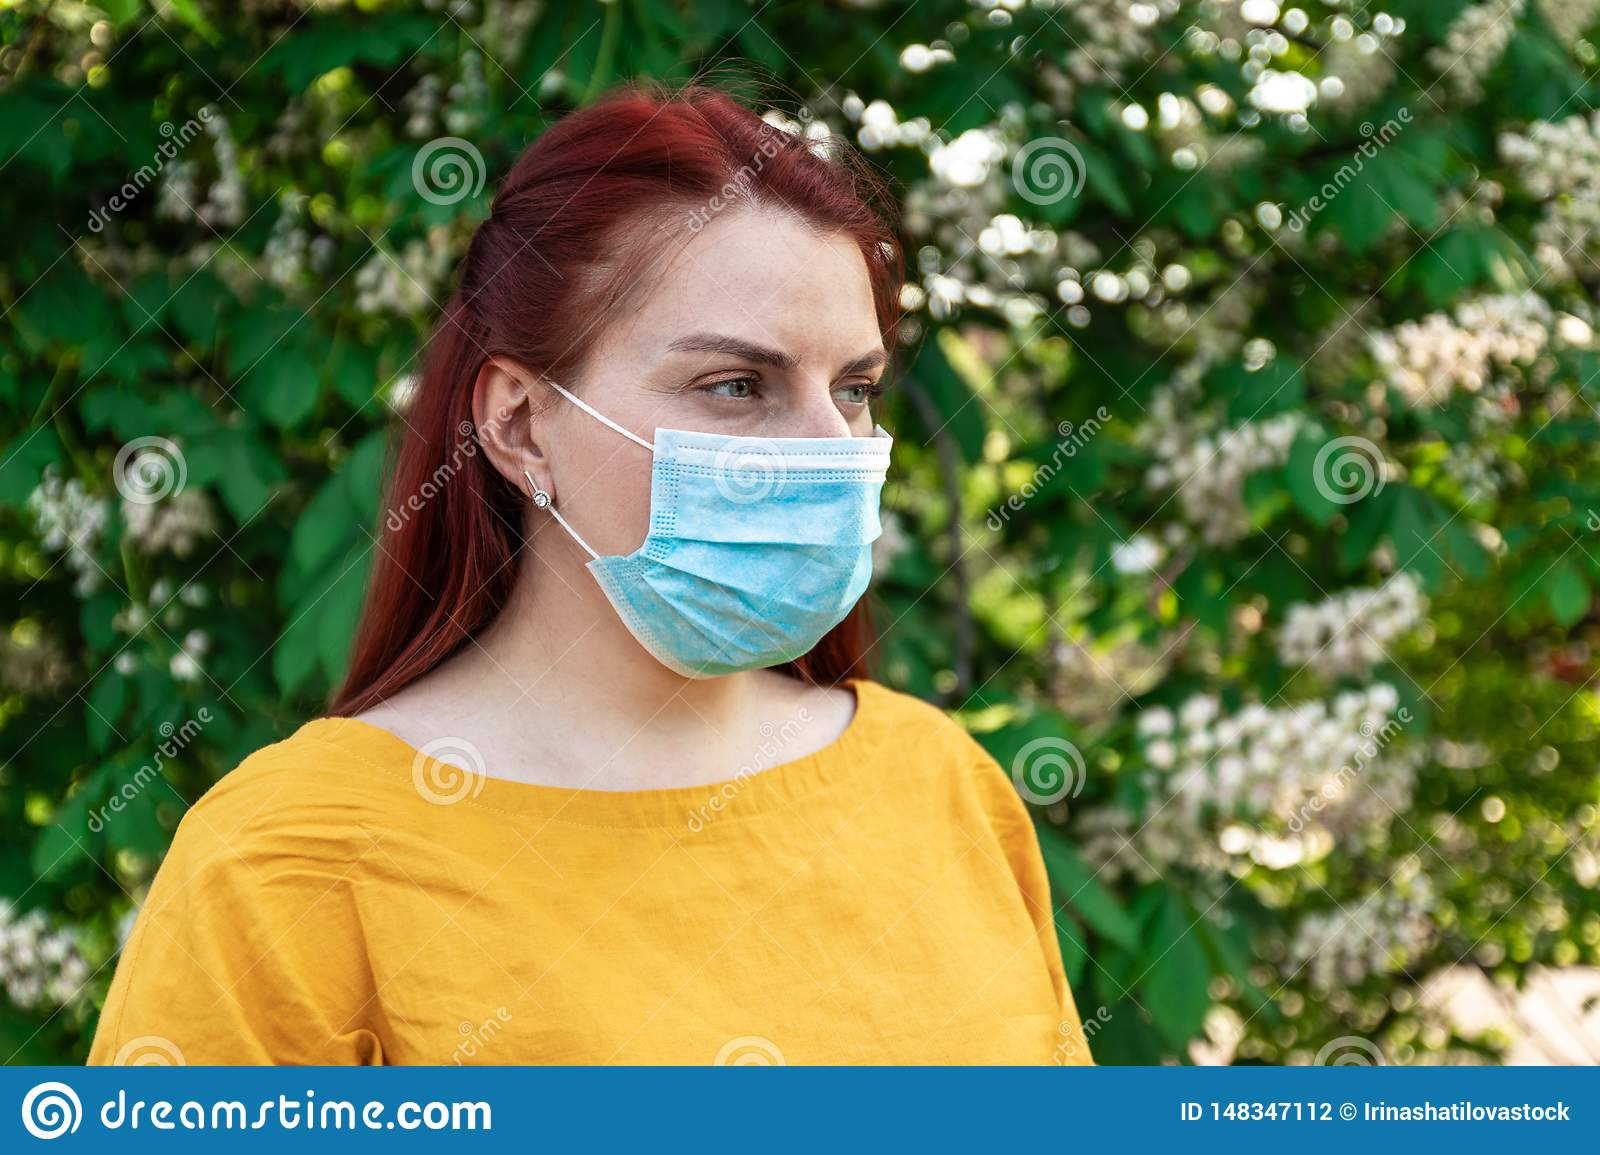mask: (599, 437, 893, 682)
